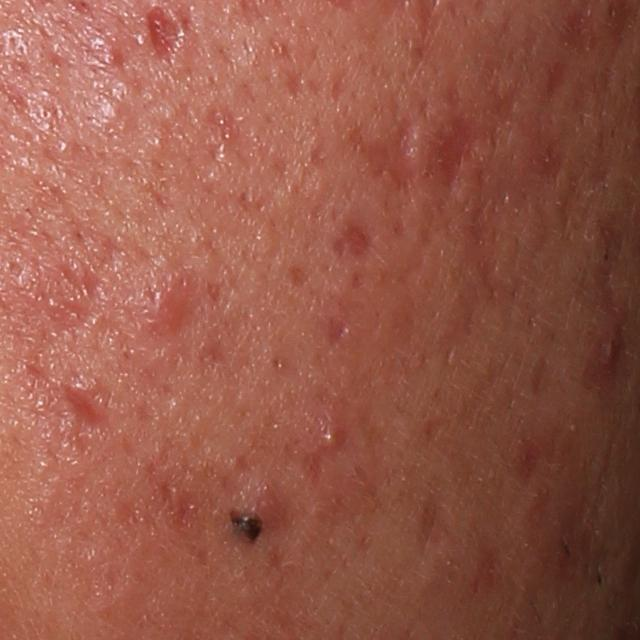atrophic_scar: (349, 111, 423, 196), (422, 113, 487, 201), (143, 4, 182, 70), (417, 497, 455, 562), (483, 79, 519, 146), (62, 382, 109, 427), (332, 217, 377, 261), (323, 314, 353, 345)
comedo: (264, 353, 288, 375)
papule: (140, 278, 188, 327), (596, 321, 633, 371)
pustule: (318, 421, 350, 449)
